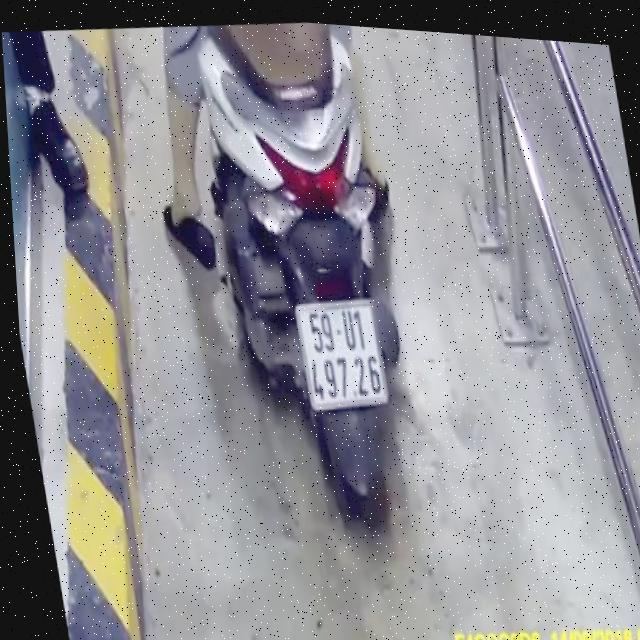motorcycle: (183, 14, 446, 553)
plate: (288, 285, 397, 418)
